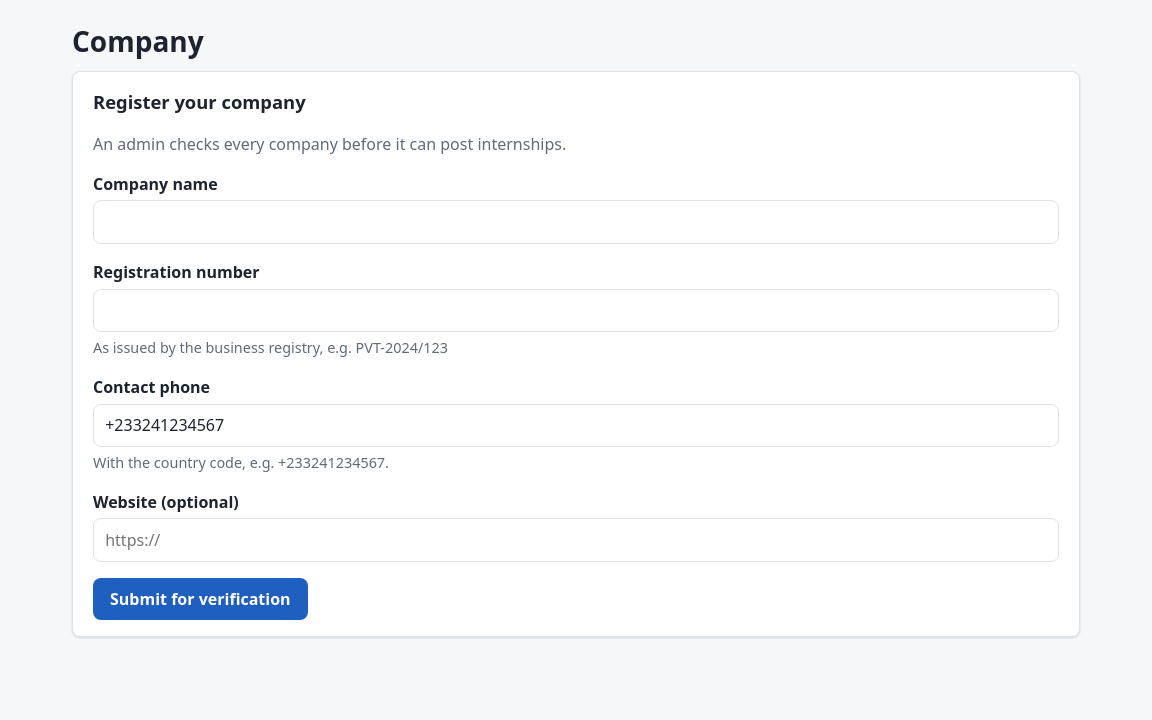
CompanyDashboard (US-04) › offers registration when there is no company yet, and shows it pending afterwards
Type "Acme Ltd" into the field labelled "Company name" at (576, 222), box [93,200,1059,244]
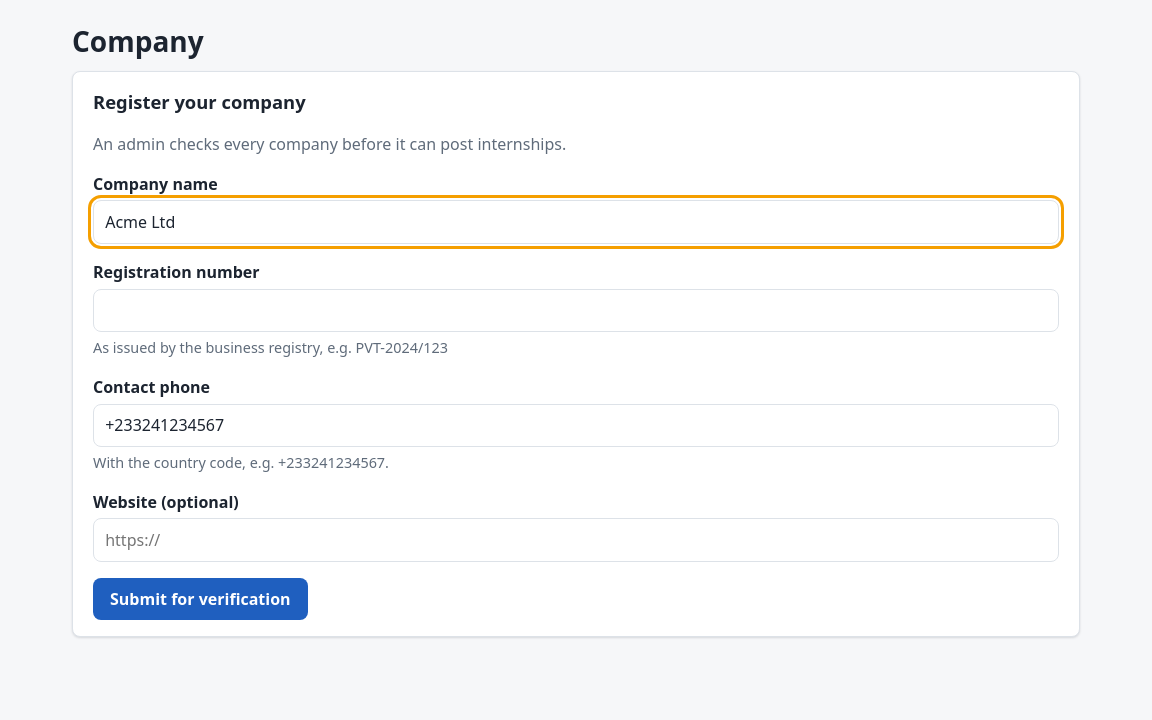
Type "PVT-1" into the field labelled "Registration number" at (576, 311), box [93,289,1059,332]
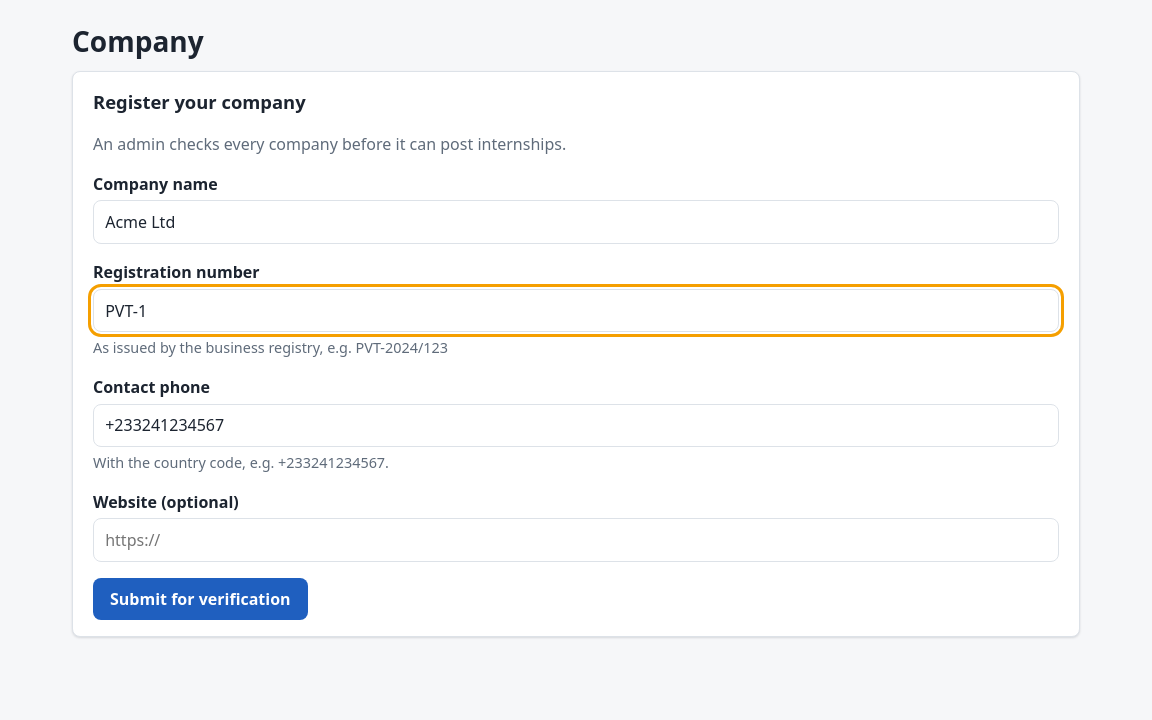
Click the button "Submit for verification" at (200, 599), box [93,578,308,620]
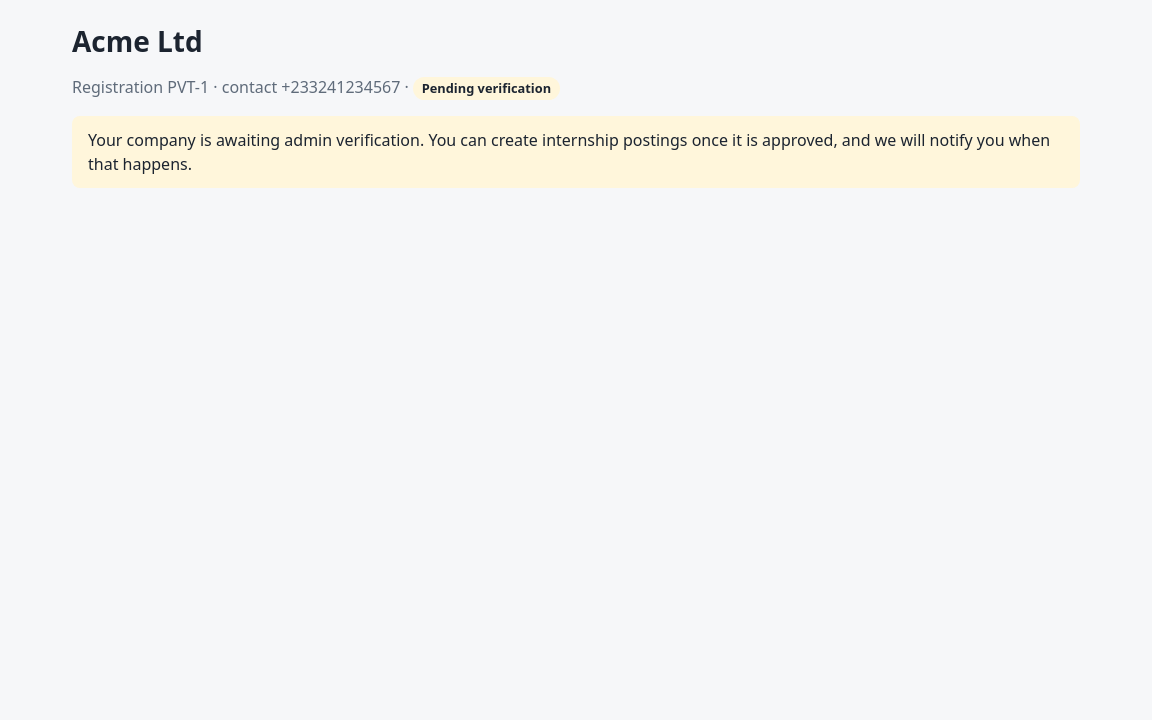
Expected: the text "awaiting admin verification" is shown, [88,129,1050,175]
